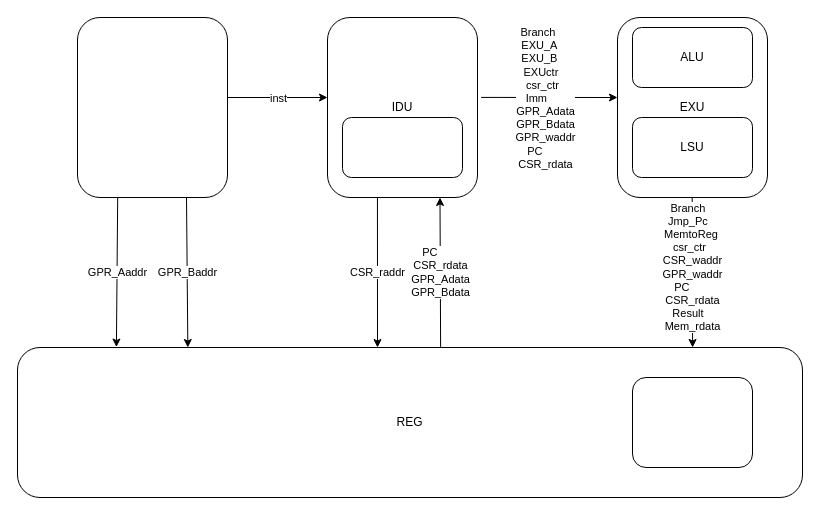
Some shapes in this 820 by 515 pixel diagram are drawn without their labels. The centre of each missing label's shape, as x and y in pixels:
IFU: the point at 152,107
rvdecoderdb rv_i, rv32_i rv_zcsr, rv_sys: the point at 402,147
WBU: the point at 692,422
